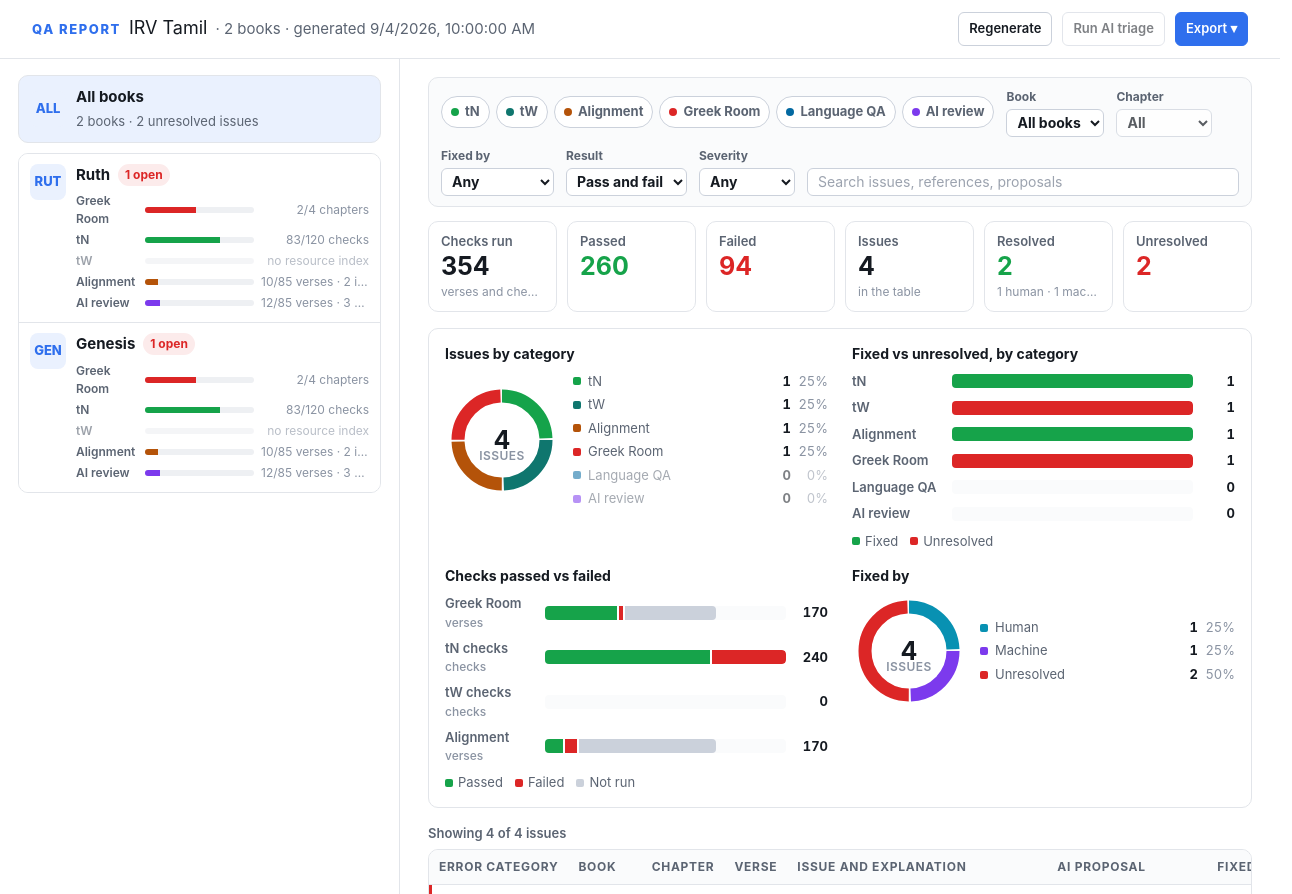
Test case: ProjectReportScreen › lists every book with its per-check progress and scopes the table to a clicked book
This screenshot has width=1292, height=894.
Expected: the text "Ruth" is shown, [76,164,110,186]
Expected: the text "Genesis" is shown, [76,333,135,356]
Click the button "Genesis".
click(200, 407)  # box [19,323,380,492]
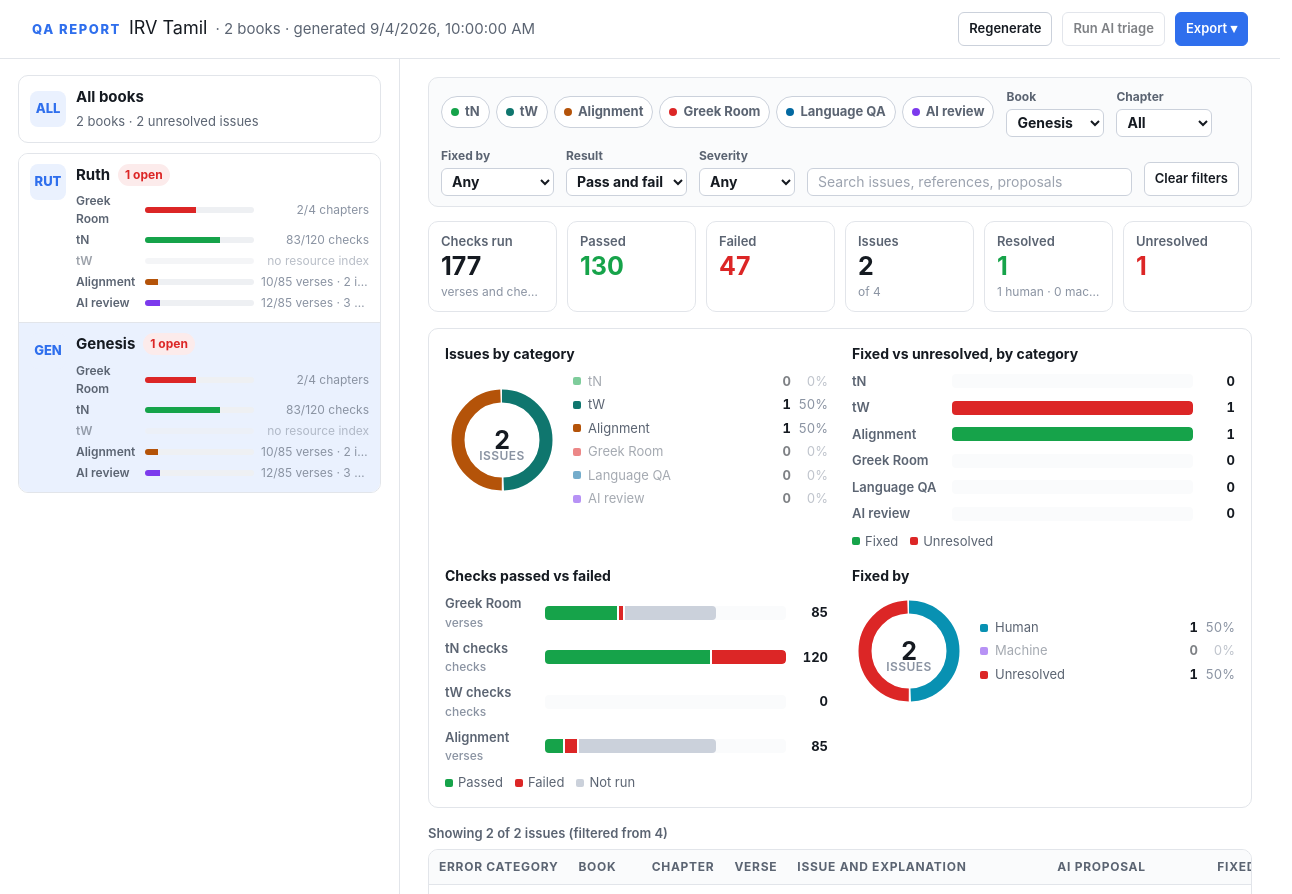
Result: the text "Showing 2 of 2 issues (filtered from 4)" is shown at [428,824,668,843]
Result: the text "177" is shown at [441,251,481,281]
